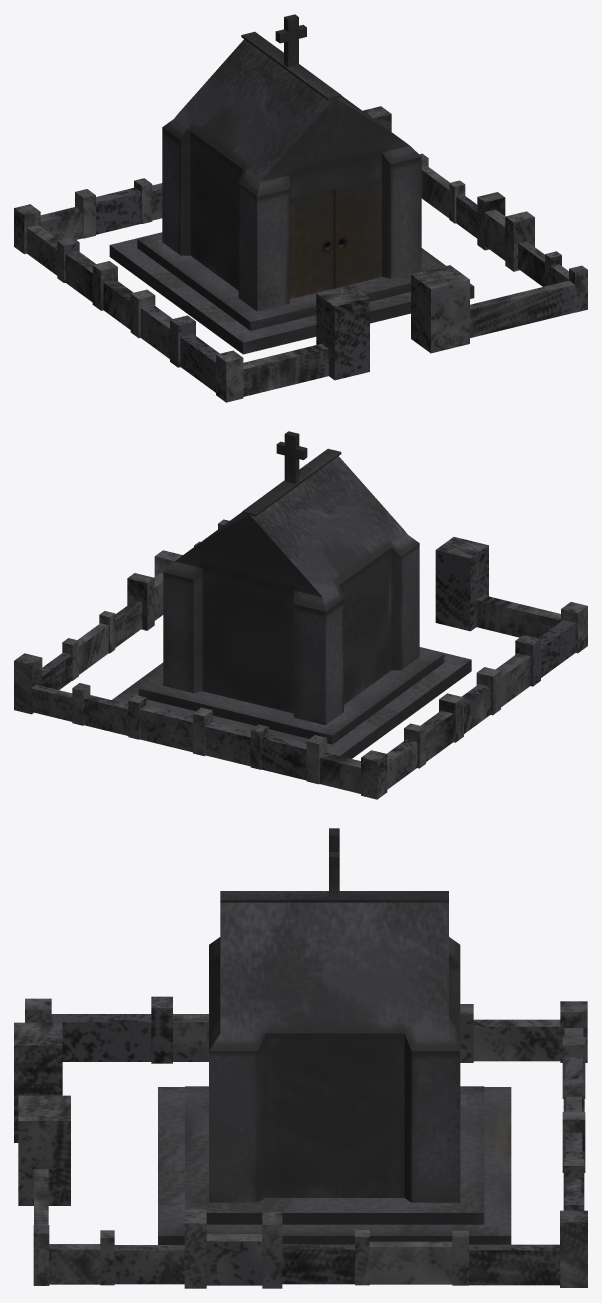
Rendered from chapel.fbx.
3 renders of one model, top to bottom at view 1: azimuth 30°, elevation 25°; view 2: azimuth 150°, elevation 25°; view 3: azimuth 270°, elevation 25°, orthographic. The views are drawn at different scales.
Parts seen in each view (by area): view 1: pCube1, pCube2; view 2: pCube1, pCube2; view 3: pCube1, pCube2.
Boxes of the visible parts, x1,y1,x2,y2 form: pCube1: (109,14,474,354); pCube2: (14,106,587,402); pCube1: (112,431,471,758); pCube2: (14,519,587,799); pCube1: (158,828,511,1244); pCube2: (14,996,587,1288).
Bounding box in the file's own units: 14.96 × 10.08 × 15.21.
